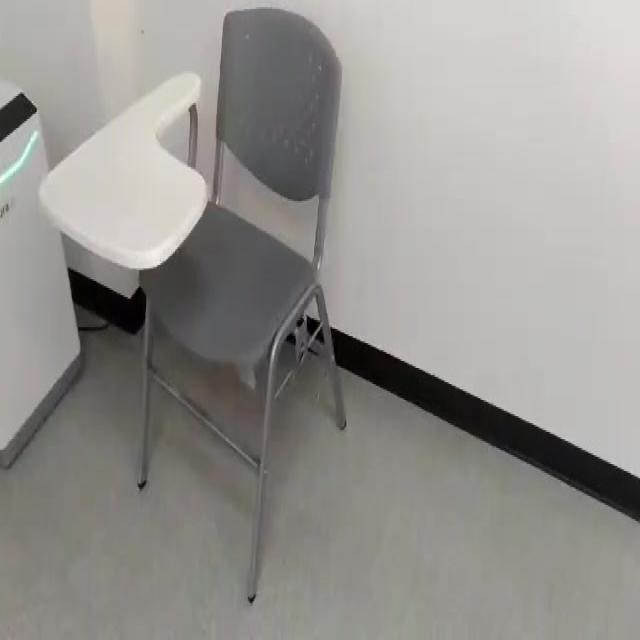chair: (47, 5, 383, 614)
